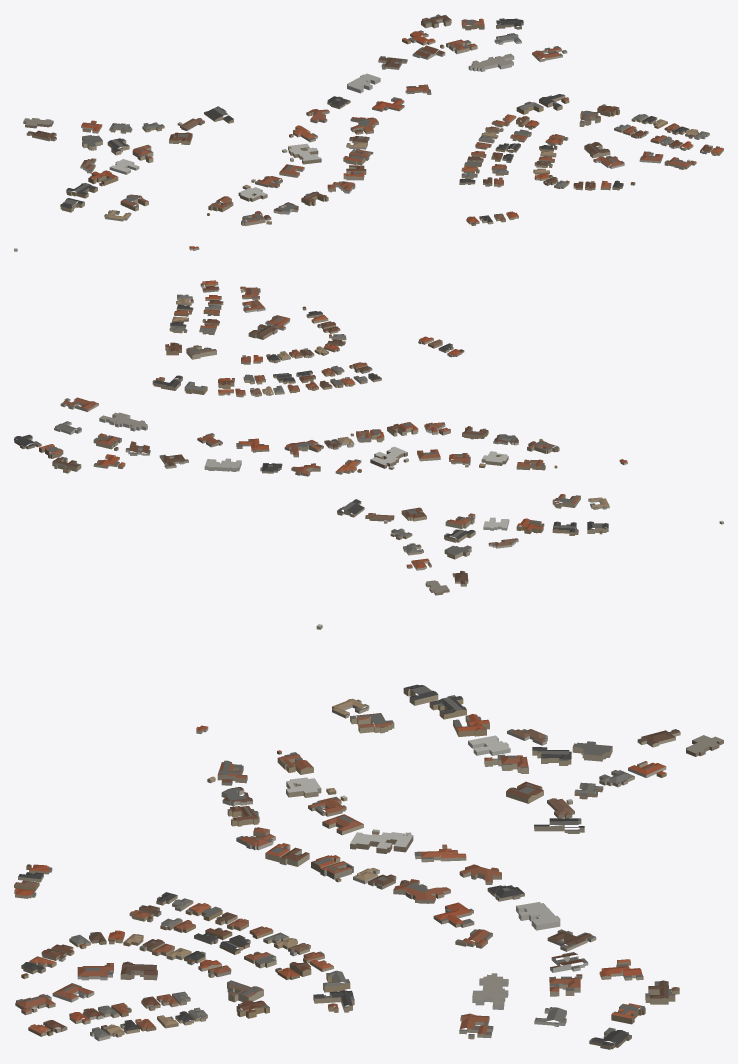
3 renders of one model, top to bottom at view 1: azimuth 30°, elevation 25°; view 2: azimuth 150°, elevation 25°; view 3: azimuth 270°, elevation 25°, orthographic. The views are drawn at different scales.
Visible parts, largest first — view 1: buildings_r6_c1_lod1; view 2: buildings_r6_c1_lod1; view 3: buildings_r6_c1_lod1.
Part boxes in pixels (x1,y1,x2,y2): buildings_r6_c1_lod1: (14, 14, 723, 251); buildings_r6_c1_lod1: (14, 280, 723, 595); buildings_r6_c1_lod1: (14, 624, 723, 1049).
Bounding box in the file's own units: 1135 × 52.79 × 768.
